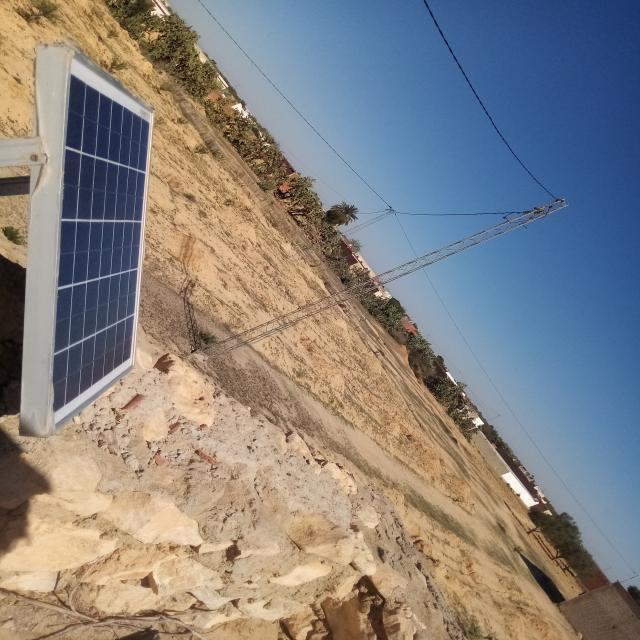no faulty: (53, 49, 158, 431)
